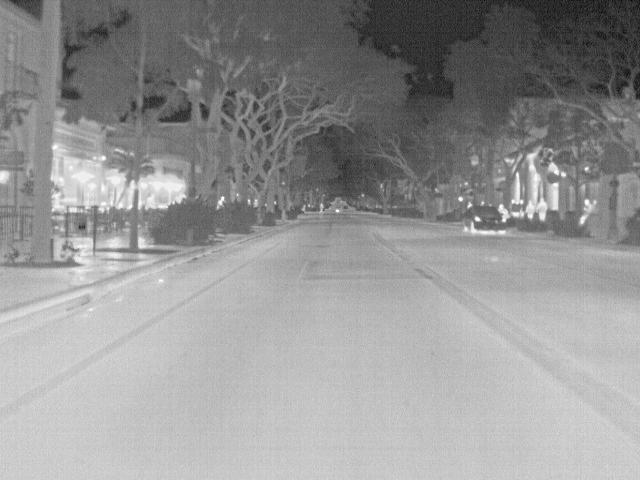car: (460, 206, 499, 234)
person: (578, 198, 594, 227), (536, 194, 548, 223), (525, 197, 536, 222), (499, 203, 509, 227), (217, 193, 228, 210)
